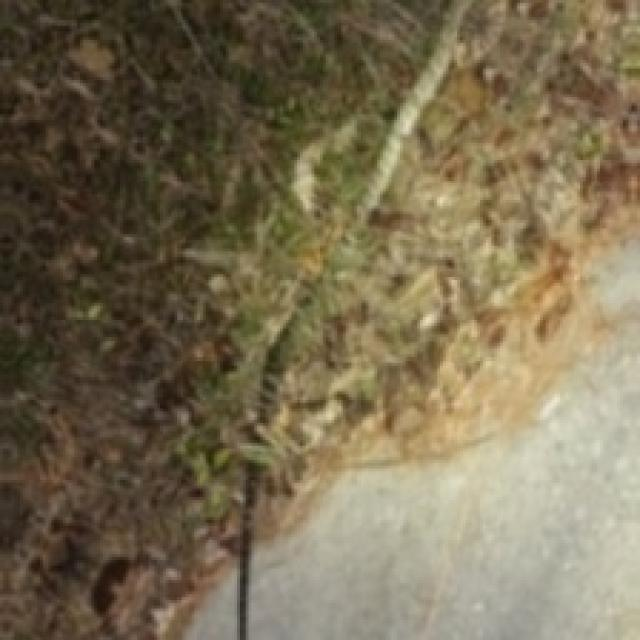king cobra: (251, 0, 637, 637)
